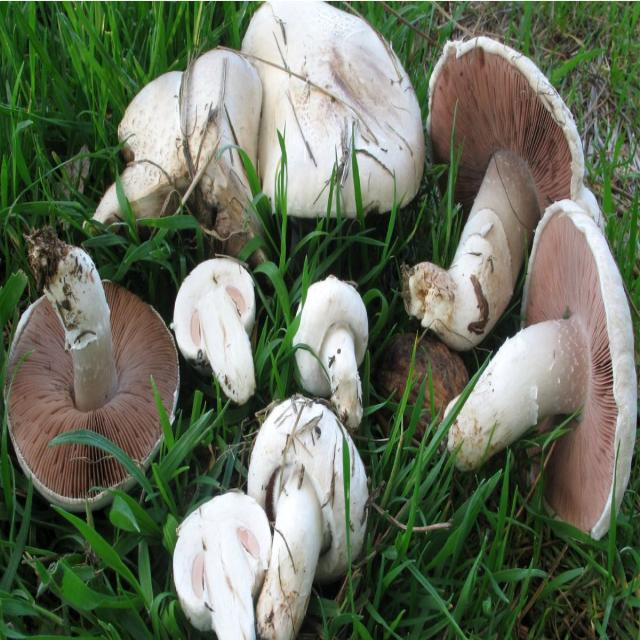field-mushroom: (447, 201, 637, 541), (402, 37, 585, 354), (4, 227, 180, 523), (246, 395, 370, 640), (170, 258, 257, 407), (291, 275, 370, 437)
